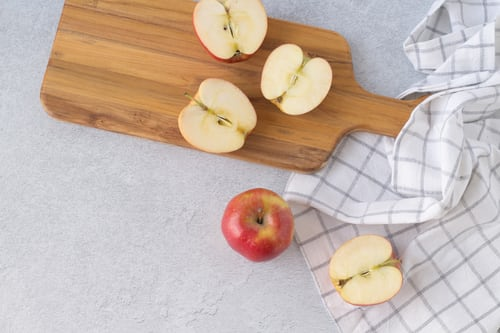apple: (173, 76, 260, 158), (258, 41, 336, 117), (328, 232, 407, 307), (218, 186, 295, 262), (188, 1, 270, 64)
